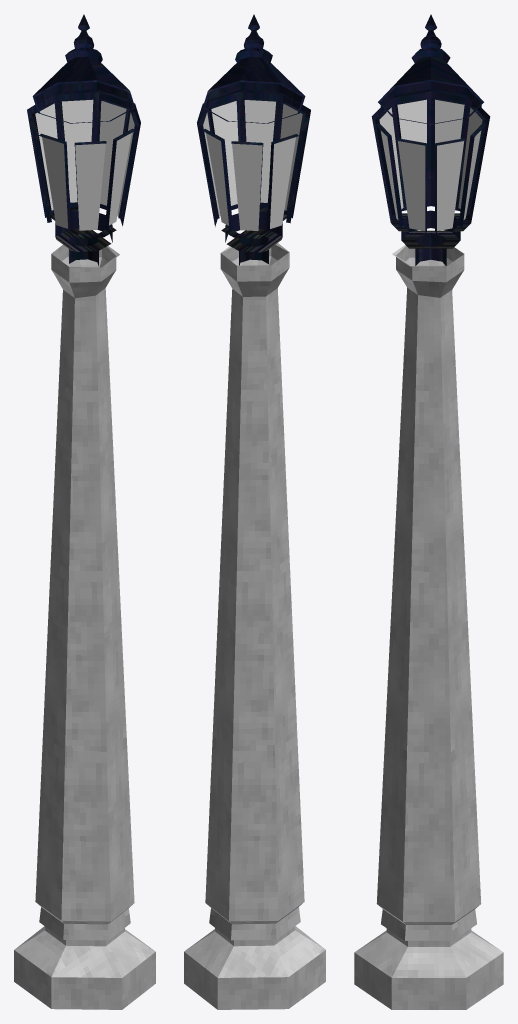
Rendered from FarolCañada.fbx.
3 views of the same model, side by side, from view 1: azimuth 30°, elevation 25°; view 2: azimuth 150°, elevation 25°; view 3: azimuth 270°, elevation 25° (orthographic).
Parts seen in each view (by area): view 1: Farol_Cañada; view 2: Farol_Cañada; view 3: Farol_Cañada.
Part boxes in pixels (x1,y1,x2,y2): Farol_Cañada: (14,14,155,1009); Farol_Cañada: (184,14,325,1009); Farol_Cañada: (354,14,503,1009).
Bounding box in the file's own units: 1.17 × 10.34 × 1.44.
